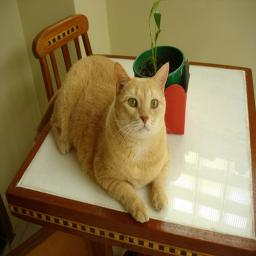catnose: (140, 114, 148, 125)
